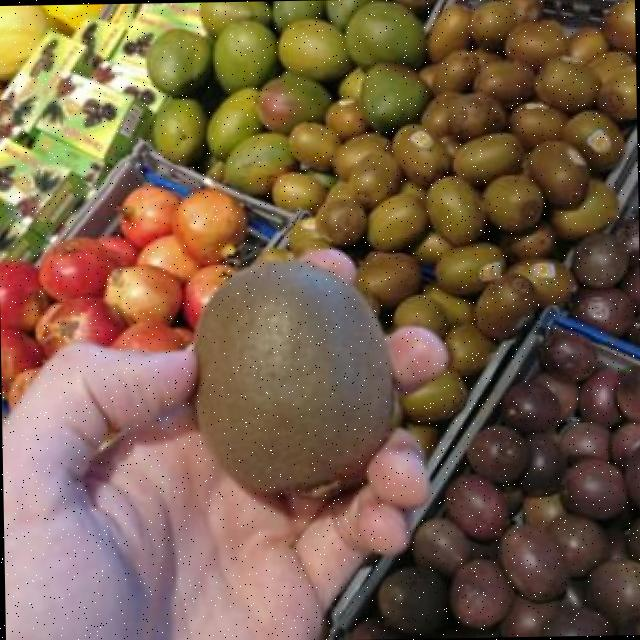kiwi: (195, 262, 394, 493), (475, 274, 536, 339), (526, 141, 586, 206), (552, 180, 617, 239), (427, 177, 483, 245), (354, 252, 420, 306), (400, 369, 466, 422), (563, 112, 622, 171), (367, 193, 427, 251), (392, 125, 450, 185), (483, 174, 543, 232), (436, 244, 505, 294), (455, 135, 523, 185), (535, 60, 600, 112), (505, 20, 568, 69), (509, 259, 576, 305), (473, 60, 533, 107), (350, 153, 401, 207), (449, 92, 506, 139), (444, 322, 494, 375), (510, 101, 566, 148), (332, 133, 389, 179), (469, 1, 520, 50), (289, 121, 339, 169), (428, 5, 470, 61), (596, 64, 637, 120), (317, 199, 366, 245), (272, 172, 325, 211), (395, 296, 446, 336), (425, 284, 473, 326), (433, 50, 478, 92), (324, 98, 368, 139), (421, 91, 460, 136), (605, 0, 635, 55), (510, 224, 556, 259), (290, 216, 331, 255), (587, 51, 633, 84), (569, 26, 608, 62), (413, 232, 451, 262), (502, 0, 538, 21), (325, 181, 355, 202), (255, 248, 294, 264), (399, 181, 425, 205), (438, 135, 461, 157), (471, 51, 500, 68), (420, 65, 438, 92)
